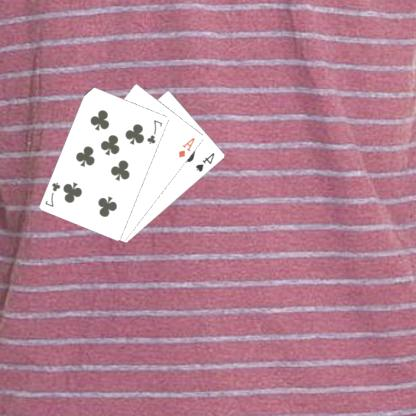4S: (195, 150, 218, 173)
7C: (44, 180, 64, 208), (146, 117, 165, 145)
AD: (178, 135, 198, 159)
